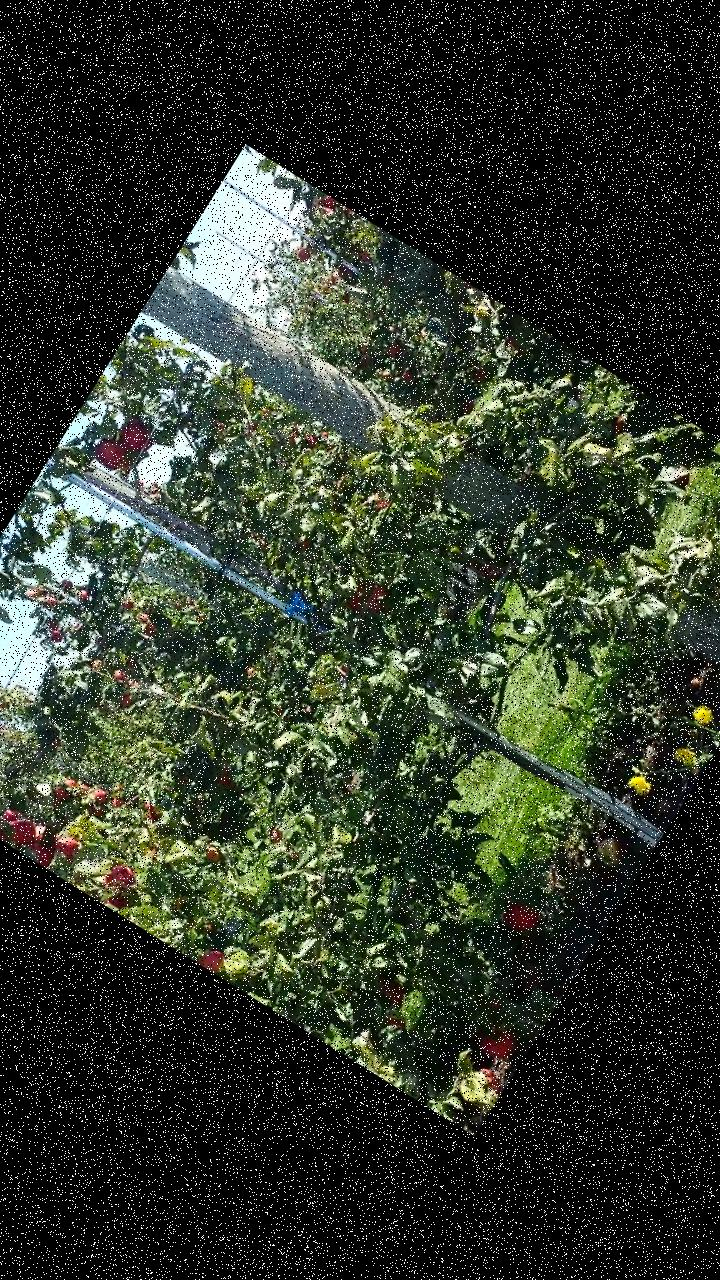Apple: (470, 1016, 521, 1066), (111, 412, 160, 458), (496, 896, 540, 939), (86, 432, 130, 474), (1, 811, 40, 849), (100, 858, 136, 894), (47, 830, 80, 863), (194, 944, 226, 974), (344, 578, 372, 612), (24, 836, 55, 866), (377, 978, 408, 1008), (362, 584, 389, 616), (104, 887, 130, 912), (606, 414, 628, 437), (380, 1014, 403, 1034), (216, 767, 234, 789), (0, 807, 17, 826), (266, 828, 280, 843), (204, 847, 218, 860)
